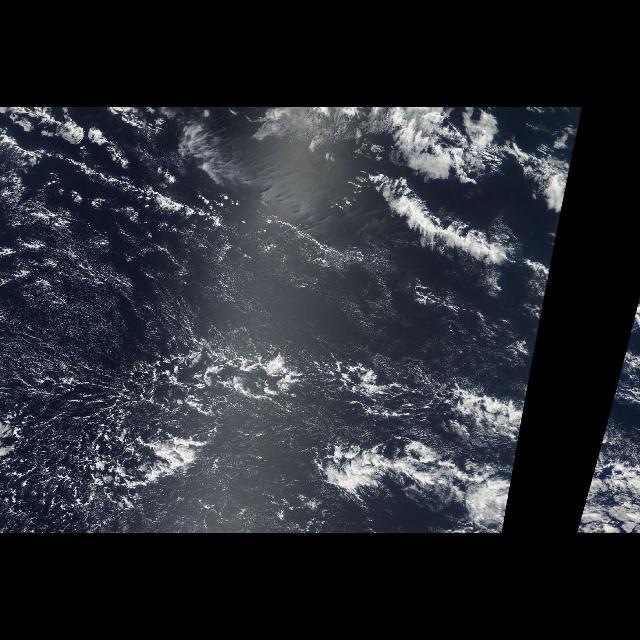Fish: (254, 145, 578, 295)
Gravel: (16, 334, 322, 520)
Sugar: (1, 227, 298, 533)
